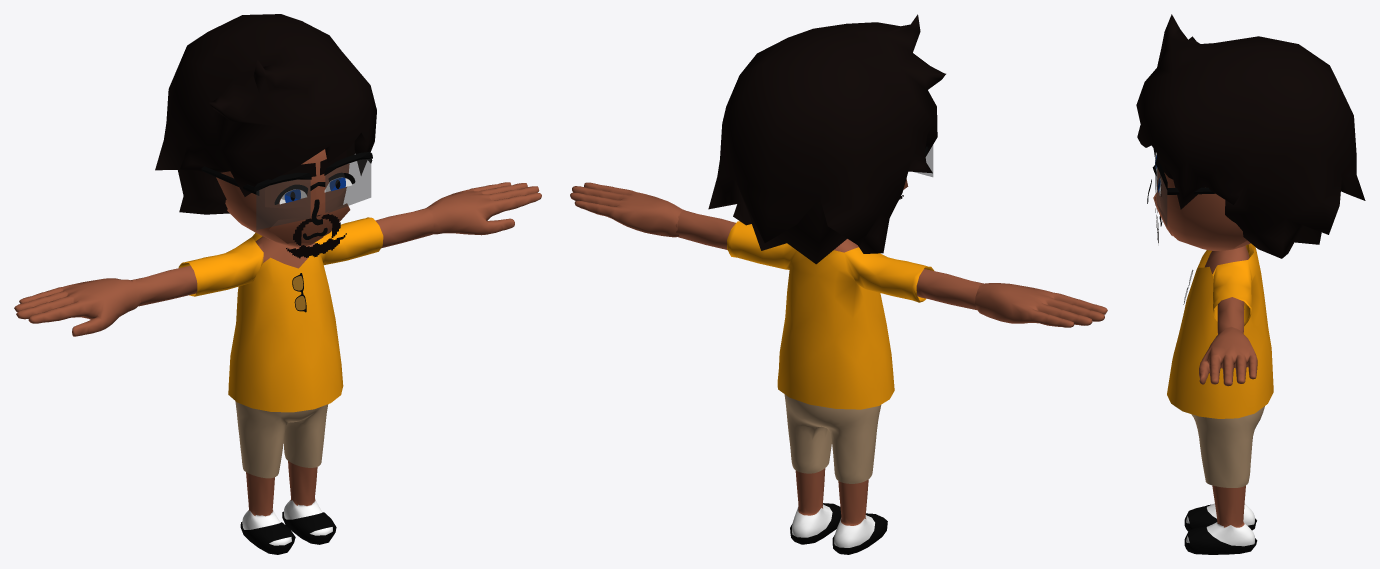
File: Joueur du grenier en Mii.fbx
The picture shows the model from 3 angles, left to right: view 1: azimuth 30°, elevation 25°; view 2: azimuth 150°, elevation 25°; view 3: azimuth 270°, elevation 25°; orthographic projection. The views are drawn at different scales.
Visible parts, largest first — view 1: Cheveux, chemise, Short, Lunettes de base, Main droite, Corps, Main gauche, Visage, Jambes, Sandales, Bouche et barbe, Frimousse (+2 smaller); view 2: Cheveux, chemise, Short, Main droite, Jambes, Main gauche, Corps, Sandales; view 3: Cheveux, chemise, Short, Visage, Main gauche, Jambes, Sandales, Corps, Lunettes de base, Oeil gauche.
Part boxes in pixels (x1,y1,x2,y2): Cheveux: [155, 14, 376, 214]; chemise: [178, 217, 383, 412]; Short: [235, 401, 328, 478]; Lunettes de base: [201, 152, 372, 229]; Main droite: [14, 278, 141, 336]; Corps: [131, 208, 434, 306]; Main gauche: [425, 182, 541, 235]; Visage: [216, 149, 348, 247]; Jambes: [242, 461, 332, 545]; Sandales: [240, 511, 336, 554]; Bouche et barbe: [269, 203, 350, 243]; Frimousse: [274, 172, 355, 239]; Cheveux: [708, 14, 945, 264]; chemise: [727, 221, 934, 409]; Short: [784, 394, 881, 483]; Main droite: [975, 283, 1107, 327]; Jambes: [792, 468, 874, 547]; Main gauche: [570, 182, 685, 237]; Corps: [675, 210, 983, 309]; Sandales: [790, 503, 887, 554]; Cheveux: [1136, 14, 1365, 258]; chemise: [1167, 243, 1273, 418]; Short: [1191, 406, 1264, 487]; Visage: [1159, 172, 1250, 251]; Main gauche: [1199, 326, 1257, 386]; Jambes: [1186, 485, 1254, 546]; Sandales: [1184, 504, 1257, 554]; Corps: [1205, 245, 1249, 334]; Lunettes de base: [1152, 149, 1214, 226]; Oeil gauche: [1157, 168, 1178, 208].
Size of the model in its own units: 203 by 189 by 78.66.
Materials: 8 (1 with a texture image).
